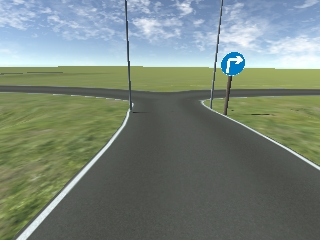right: (220, 52, 244, 76)
